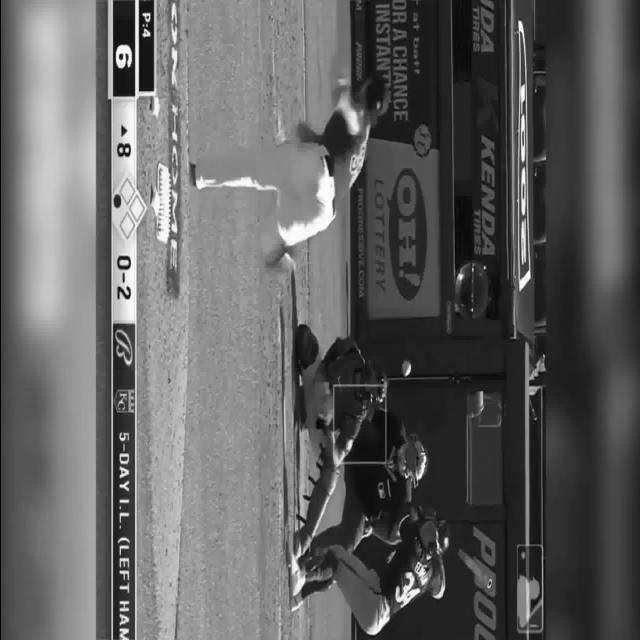baseball: (400, 360, 410, 378)
baseball_glove: (330, 53, 350, 109), (312, 380, 332, 425)
bat: (448, 544, 491, 589)
shoe: (265, 244, 294, 280), (286, 549, 305, 598), (289, 591, 302, 613)
